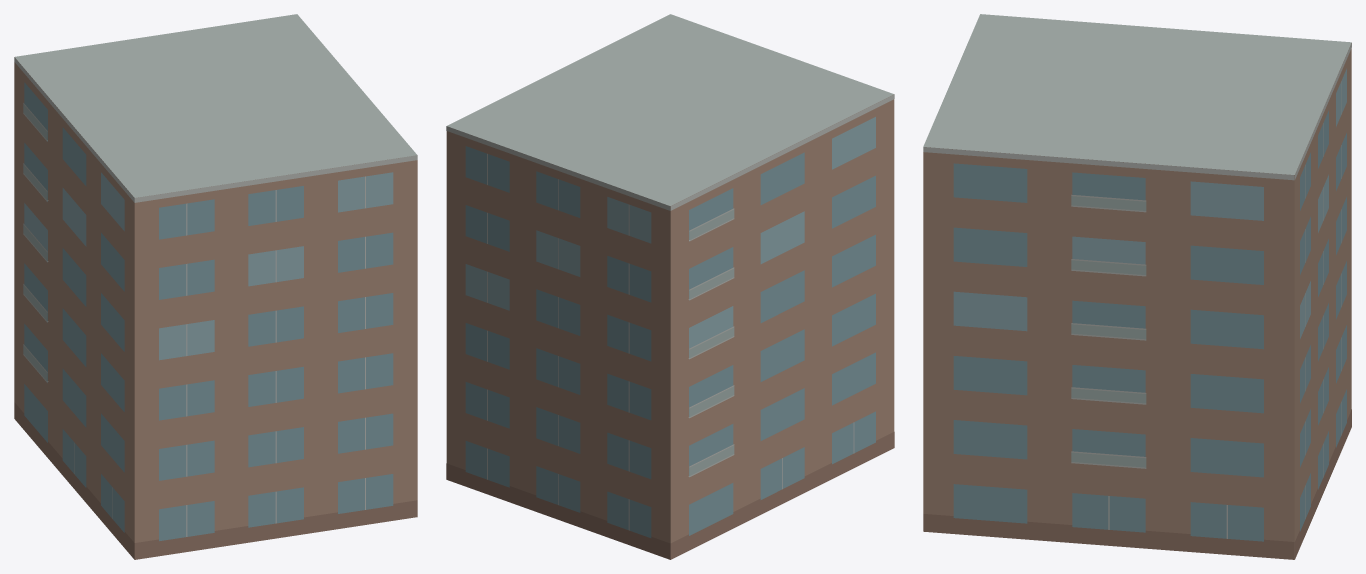
Rendered from survey-upis-32870893.glb.
The picture shows the model from 3 angles, left to right: view 1: azimuth 30°, elevation 25°; view 2: azimuth 150°, elevation 25°; view 3: azimuth 270°, elevation 25°; orthographic projection. The views are drawn at different scales.
Visible parts, largest first — view 1: survey-upis-32870893.tmp; view 2: survey-upis-32870893.tmp; view 3: survey-upis-32870893.tmp.
Boxes of the visible parts, box(x1,y1,x2,y2) form: survey-upis-32870893.tmp: box(14, 14, 417, 559); survey-upis-32870893.tmp: box(446, 14, 894, 559); survey-upis-32870893.tmp: box(923, 14, 1351, 559).
Size of the model in its own units: 16.17 by 18 by 18.18.
